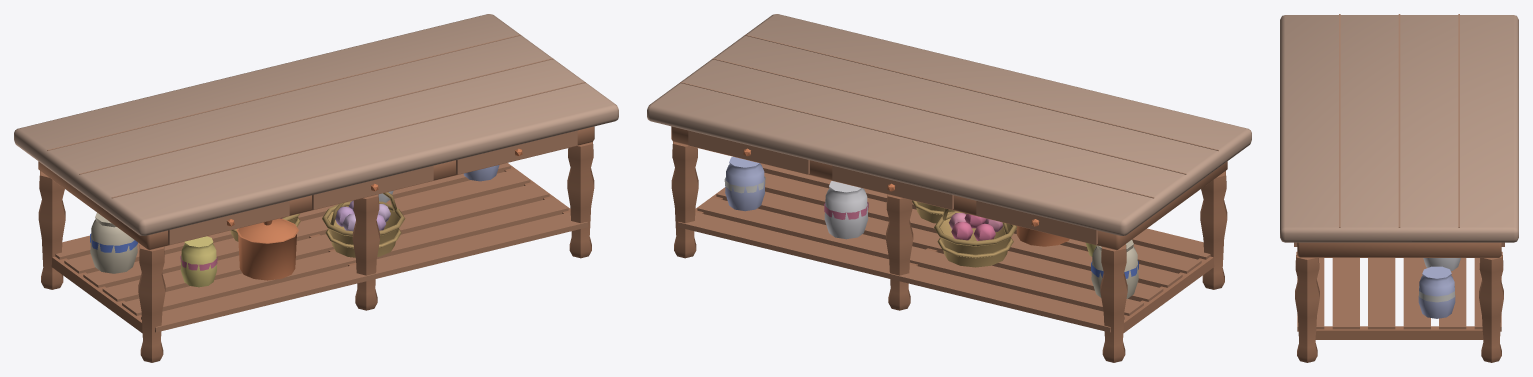
Rendered from kitchen_island.glb.
3 views of the same model, side by side, from view 1: azimuth 30°, elevation 25°; view 2: azimuth 150°, elevation 25°; view 3: azimuth 270°, elevation 25° (orthographic). The views are drawn at different scales.
Visible parts, largest first — view 1: kitchen_island; view 2: kitchen_island; view 3: kitchen_island.
Boxes of the visible parts, x1,y1,x2,y2 form: kitchen_island: (14, 14, 618, 362); kitchen_island: (647, 14, 1251, 362); kitchen_island: (1280, 14, 1518, 362).
Size of what is drawn, in the model's own units: 3 by 0.92 by 1.4.
